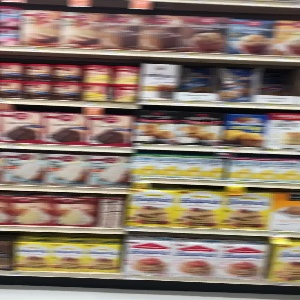void: (254, 61, 300, 101)
